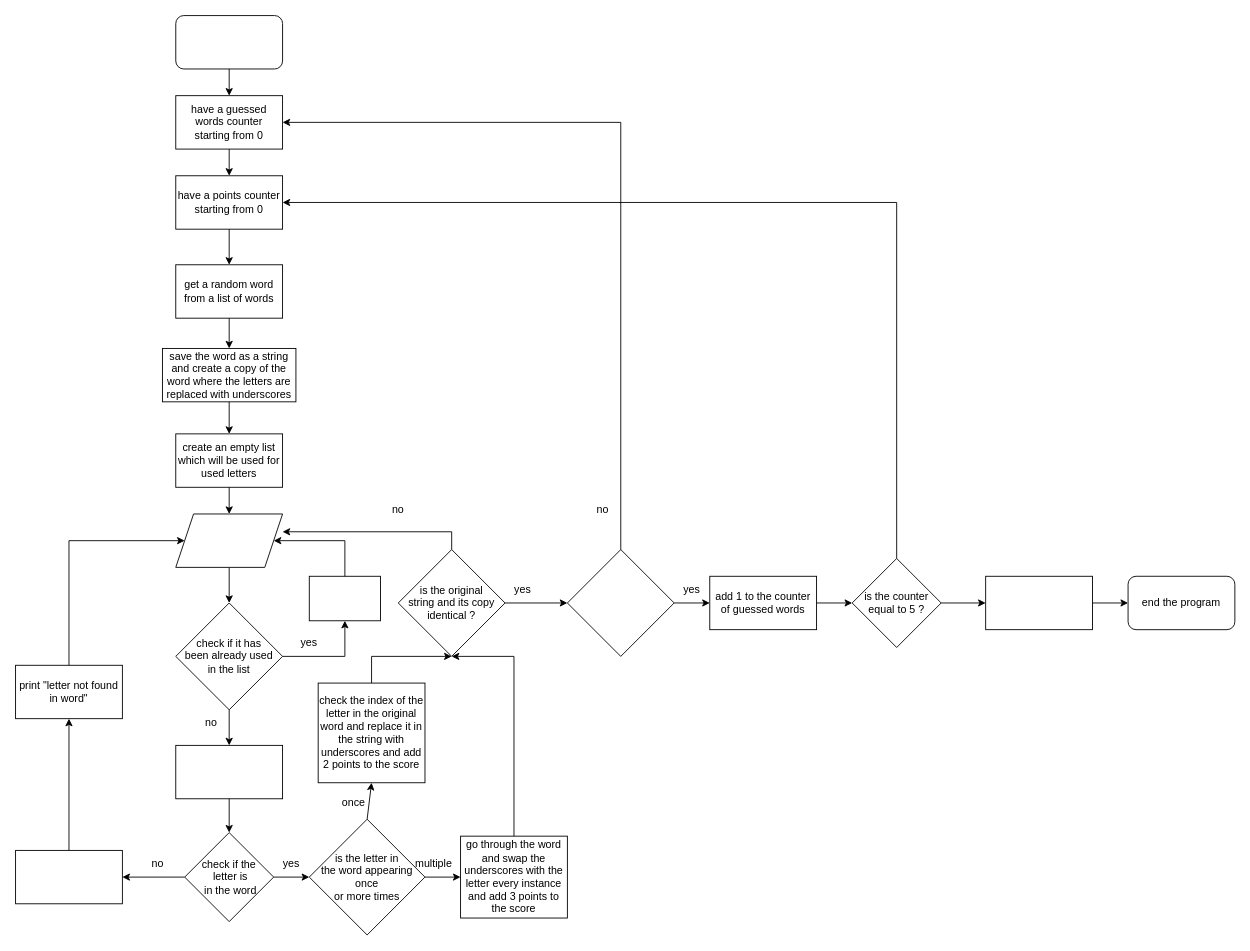
Image size: 1250x951. Some labels were removed from this diagram. Each missing label, with the box of its shape:
are their points equal to or above 0 ?: (566, 549, 674, 656)
get a letter from the player: (175, 513, 283, 567)
print "letter already used": (308, 575, 380, 621)
put it in the list with used letters: (175, 744, 283, 799)
show message to congratulate the user for winning the game: (985, 575, 1092, 630)
start: (175, 15, 283, 69)
take a point out of the score counter: (15, 850, 122, 904)
